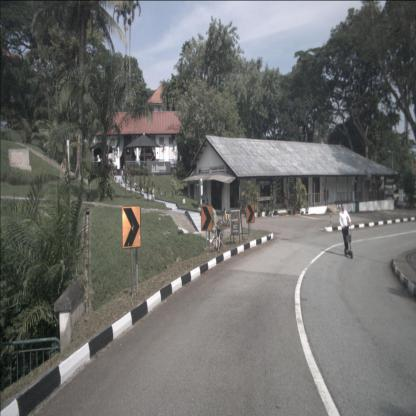vehicle-bicycle: (212, 219, 224, 254), (222, 203, 230, 227)
